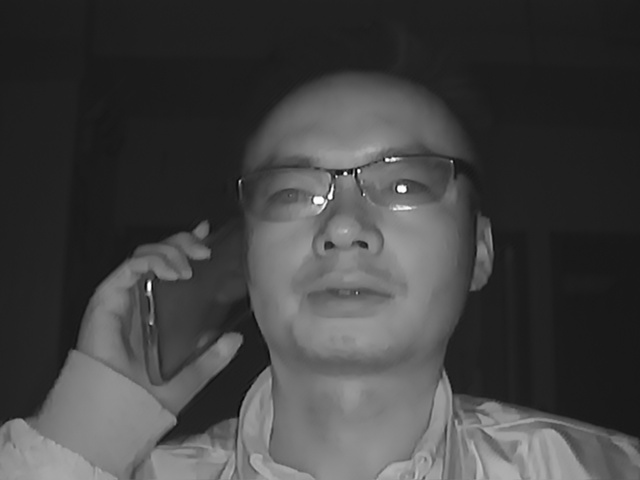hand: (78, 232, 221, 395)
